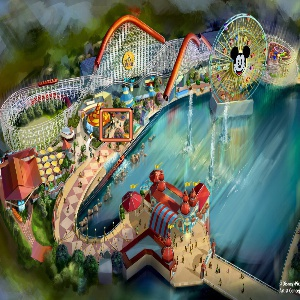square: (96, 108, 132, 141)
